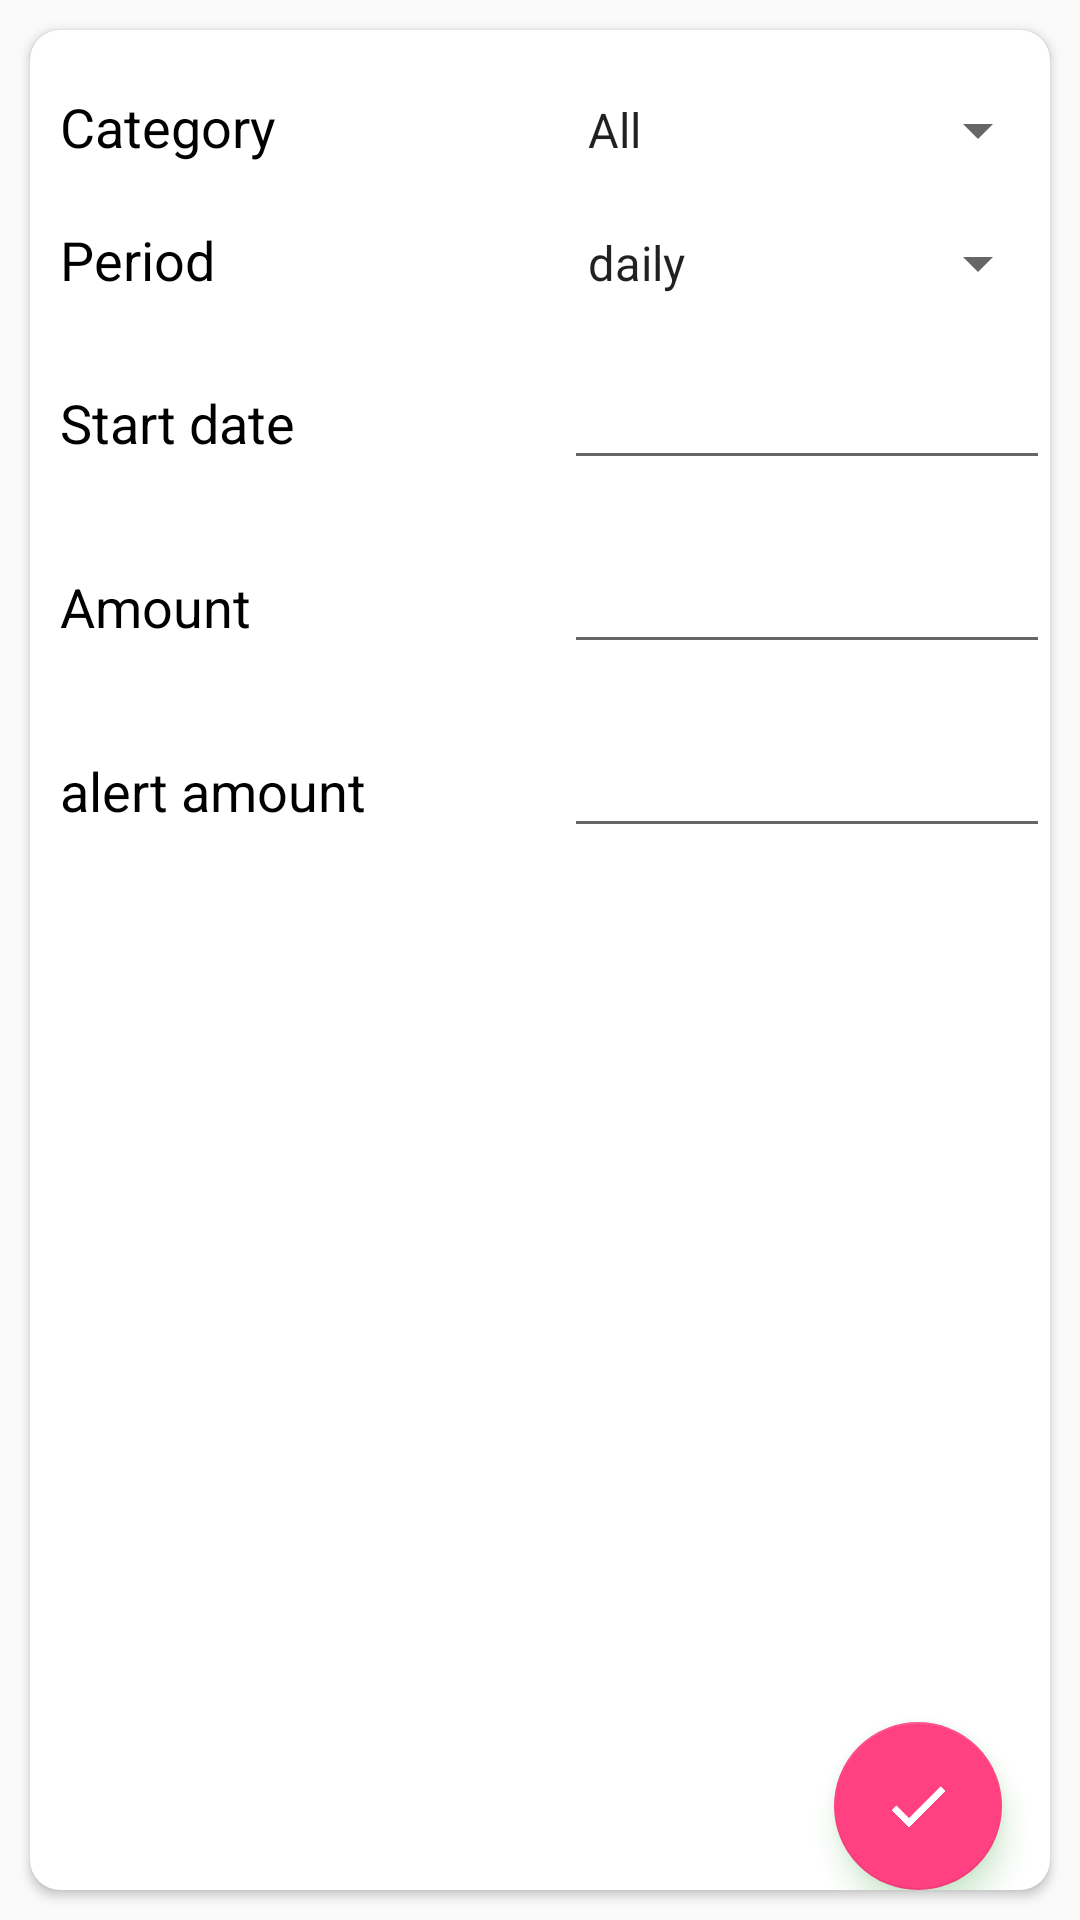

Named icons in this screenshot (1080×1920) and their bounding boxes, {"x1": x1, "y1": y1, "x2": x2, "y2": y2}:
done: {"x1": 834, "y1": 1722, "x2": 1002, "y2": 1890}
